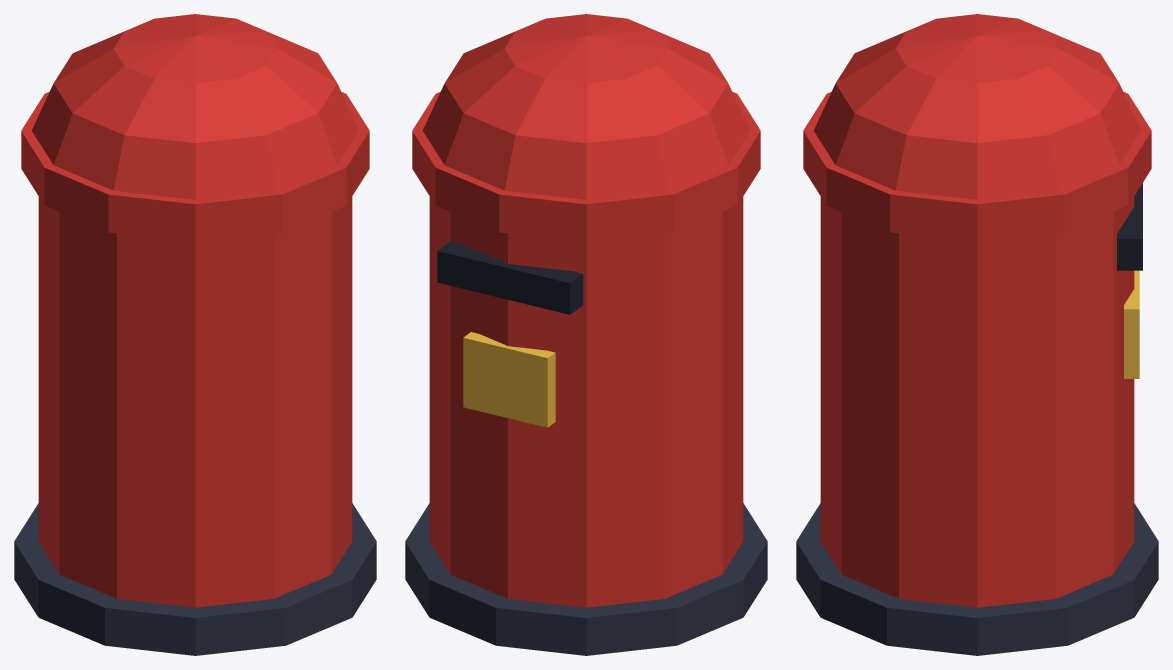
The model's file is postbox.glb.
3 views of the same model, side by side, from view 1: azimuth 30°, elevation 25°; view 2: azimuth 150°, elevation 25°; view 3: azimuth 270°, elevation 25° (orthographic).
Parts seen in each view (by area): view 1: body, cap, plinth, cap-rim; view 2: body, cap, plinth, cap-rim, plate, slot; view 3: body, cap, plinth, cap-rim, slot, plate.
Boxes of the visible parts, x1,y1,x2,y2 form: body: (38,196,352,607); cap: (31,14,359,199); plinth: (14,503,376,655); cap-rim: (21,92,369,242); body: (429,196,743,607); cap: (422,14,750,199); plinth: (405,503,767,655); cap-rim: (412,92,760,242); plate: (463,332,555,427); slot: (437,241,583,314); body: (820,196,1134,607); cap: (813,14,1141,199); plinth: (796,503,1158,655); cap-rim: (803,92,1151,242); slot: (1117,183,1142,270); plate: (1124,270,1139,378).
Size of the model in its own units: 0.104 by 0.172 by 0.104.
